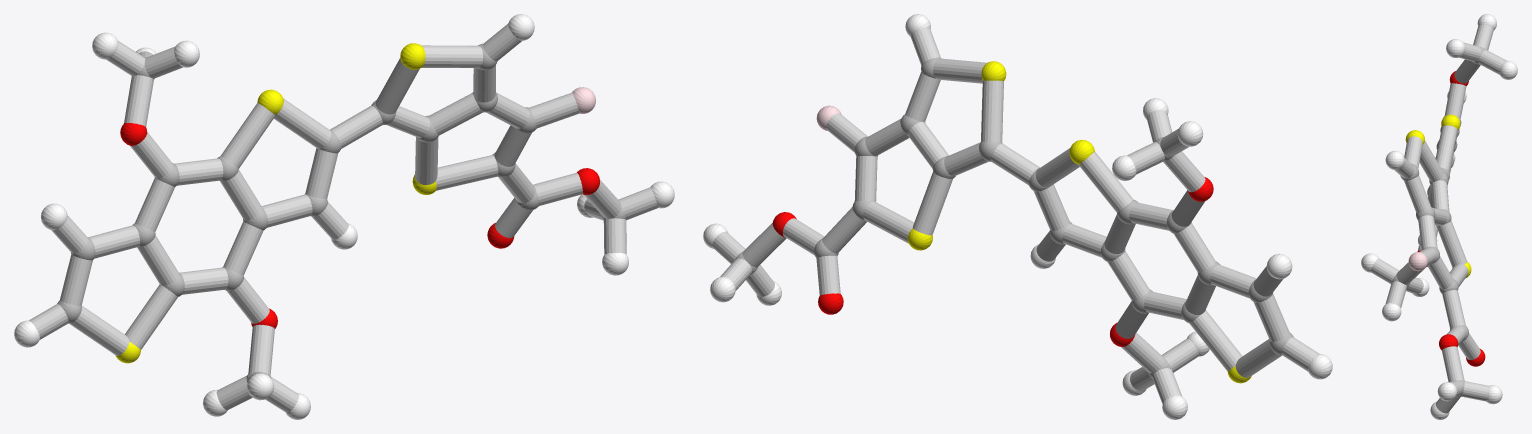
The model's file is Dimethoxy_Benzodithiophene_Phi_15_Theta_210_Methylcarbonyl_3_Fluoro_Thienothiophene.glb.
The picture shows the model from 3 angles, left to right: view 1: azimuth 30°, elevation 25°; view 2: azimuth 150°, elevation 25°; view 3: azimuth 270°, elevation 25°; orthographic projection. The views are drawn at different scales.
Parts seen in each view (by area): view 1: grp15205, grp8689, grp1, grp7241, grp13395; view 2: grp15205, grp8689, grp1, grp7241, grp13395; view 3: grp15205, grp8689, grp1, grp13395, grp7241, grp14843.
Boxes of the visible parts, x1,y1,x2,y2 form: grp15205: (29,24,658,412); grp8689: (14,14,674,419); grp1: (57,43,625,382); grp7241: (115,43,436,363); grp13395: (120,123,599,328); grp15205: (712,28,1319,403); grp8689: (703,14,1332,419); grp1: (735,57,1293,378); grp7241: (907,61,1251,383); grp13395: (772,177,1213,346); grp15205: (1370,24,1506,413); grp8689: (1361,14,1517,419); grp1: (1392,46,1486,397); grp13395: (1417,71,1485,366); grp7241: (1405,114,1471,277); grp14843: (1408,252,1427,271).
Size of the model in its own units: 16.86 by 8.97 by 4.86.
